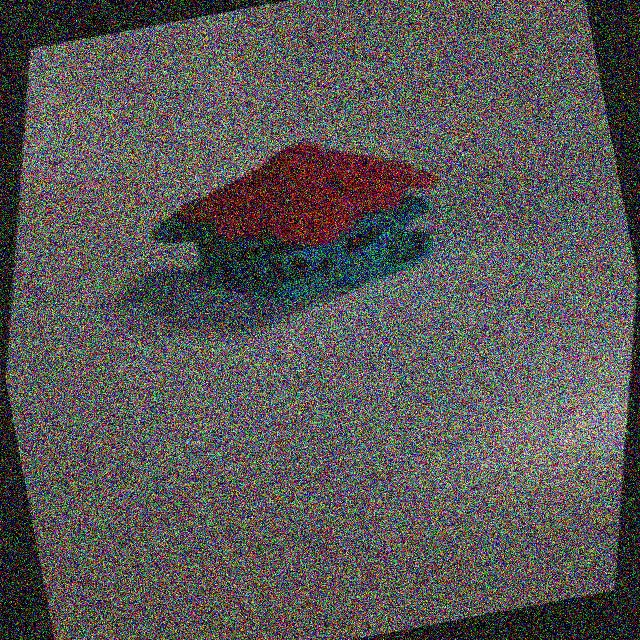House: (64, 83, 505, 392)
